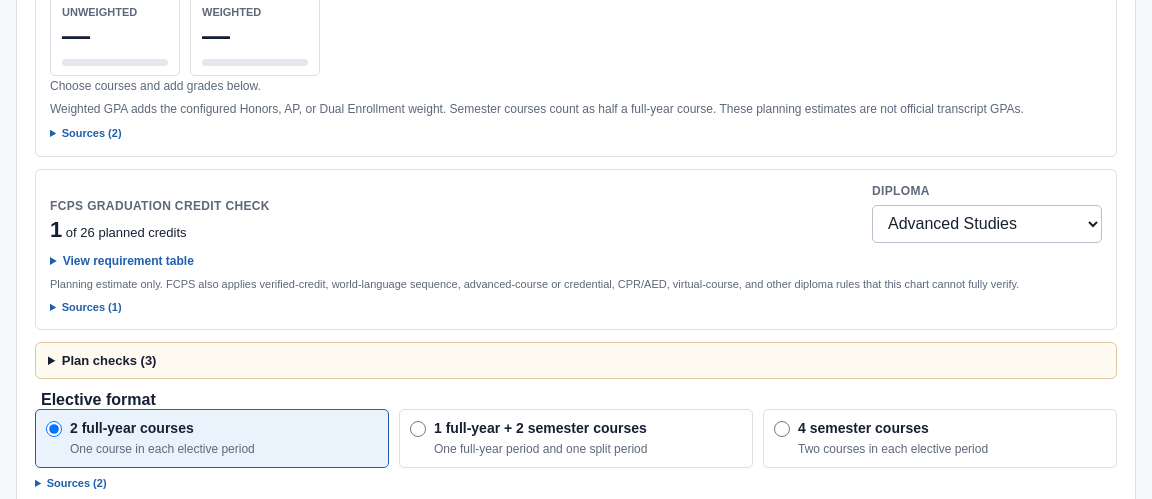
Test: plan checks and confirmation reminders › shows unchecked DE eligibility as a side reminder instead of a plan issue
This screenshot has width=1152, height=499.
(page scrolled)
Click the heading "Plan checks (3)". click: (109, 361)
box: [62,354,156,368]
(page scrolled)
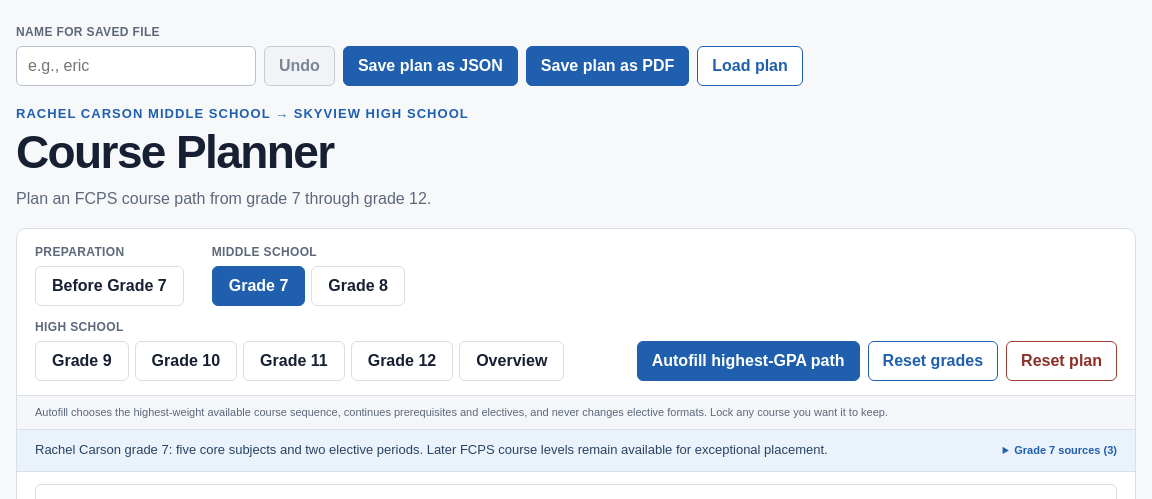
Click the button "Grade 11". click: (294, 361)
box: [243,341,345,381]
(page scrolled)
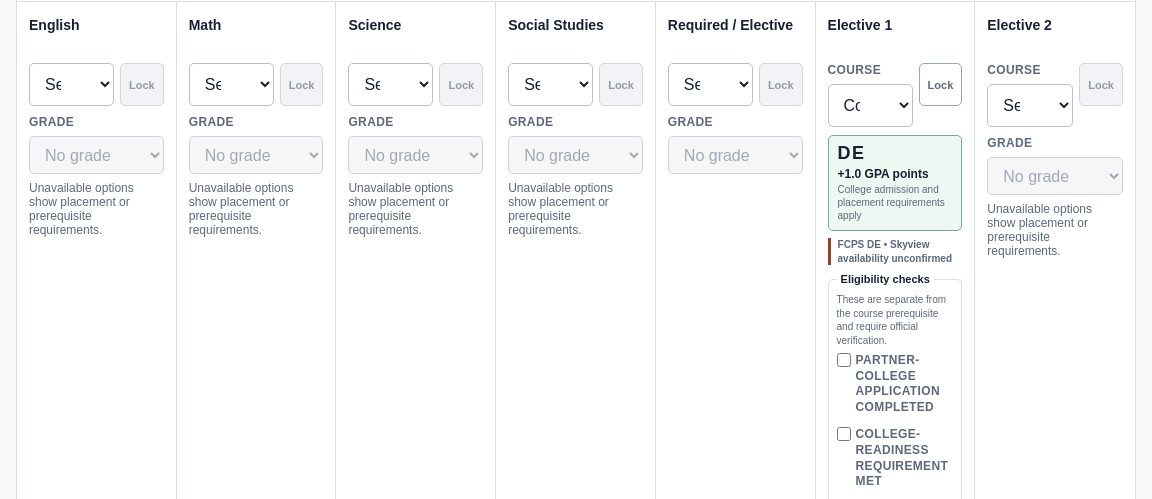
Click the checkbox labelled "Partner-college application completed". click: (844, 360)
box: [837,353,851,367]
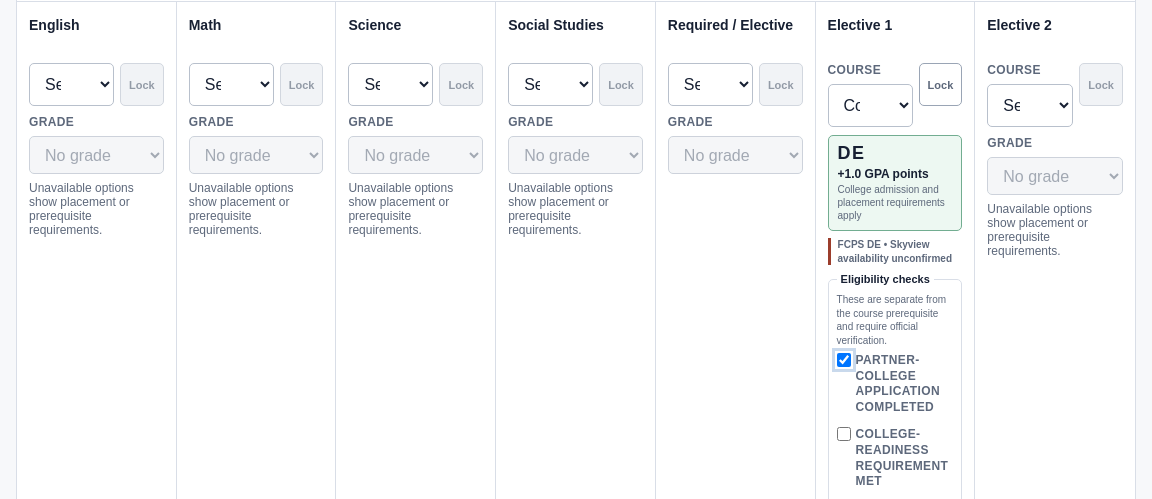
Click the checkbox labelled "College-readiness requirement met". click: (844, 434)
box: [837,427,851,441]
(page scrolled)
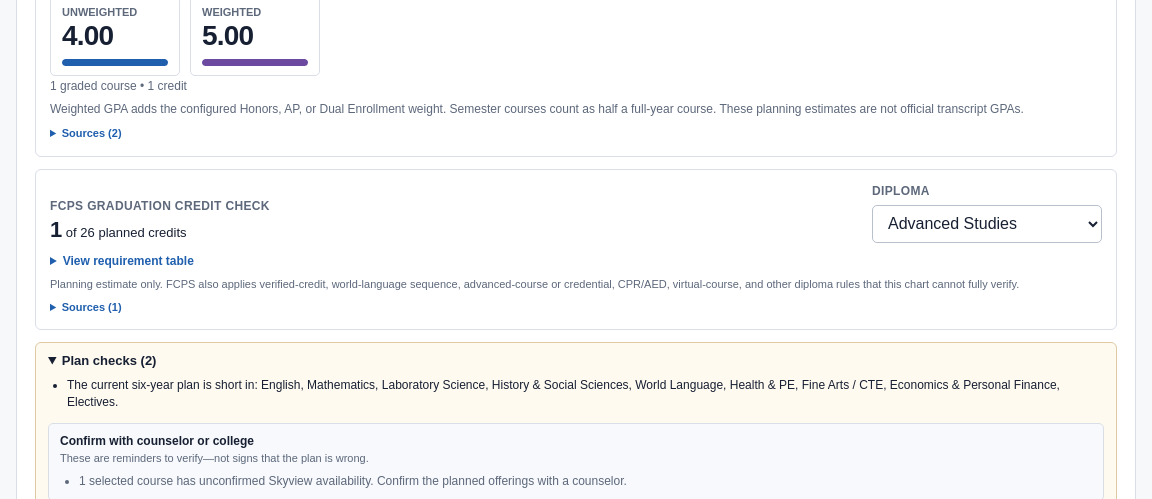
Now the heading "Confirm with counselor or college" is shown, box [60,434,254,448]
Now the heading "Plan checks (2)" is shown, box [62,354,156,368]
